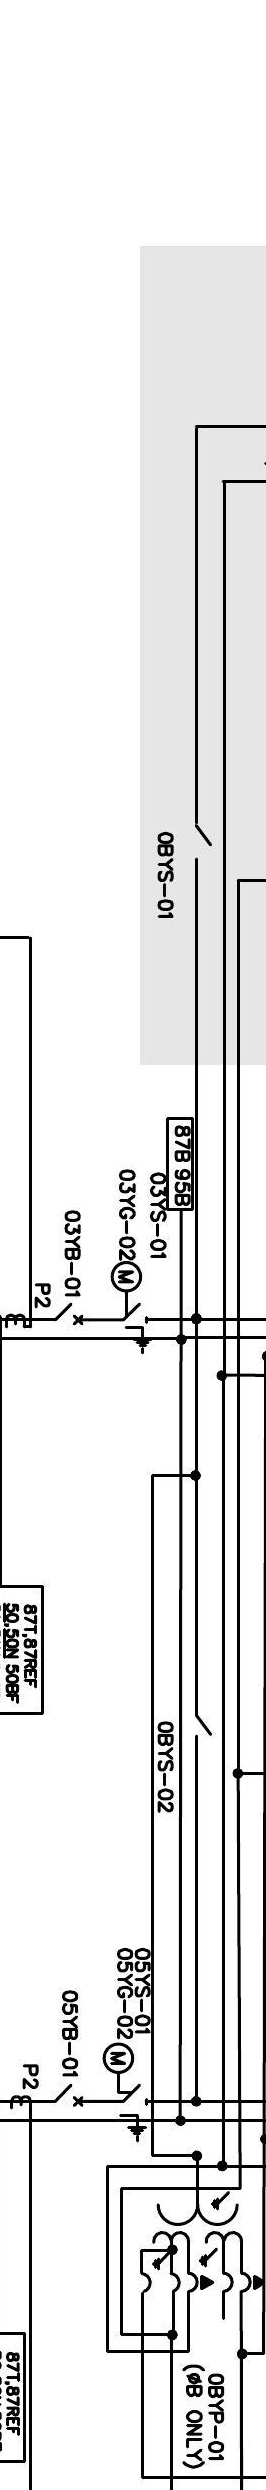115_3ways_ds_w_motor: (101, 2042, 149, 2144), (109, 1261, 152, 1355)
115_breaker: (52, 2091, 84, 2115), (54, 1302, 84, 1326)
115_ds: (195, 823, 212, 861), (195, 1713, 212, 1739)
115_vt_1p: (150, 2190, 266, 2295)
